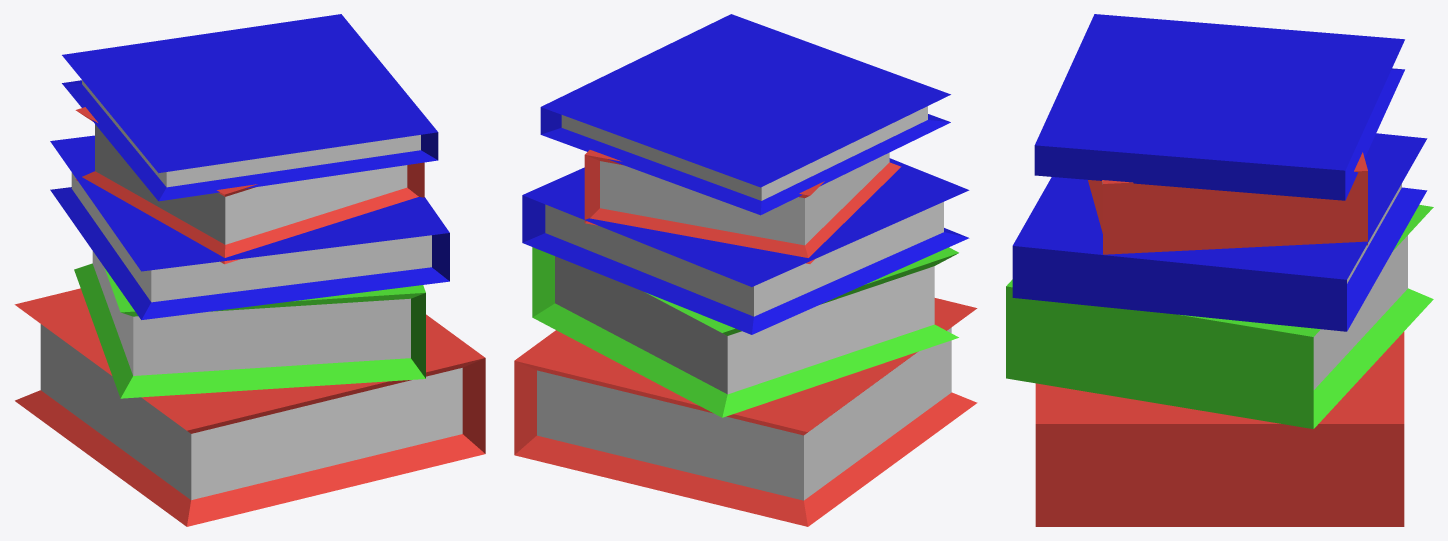
File: libros.glb
The picture shows the model from 3 angles, left to right: view 1: azimuth 30°, elevation 25°; view 2: azimuth 150°, elevation 25°; view 3: azimuth 270°, elevation 25°; orthographic projection. The views are drawn at different scales.
Visible parts, largest first — view 1: Cube, Cube.004, Cube.002, Cube.001, Cube.003; view 2: Cube, Cube.004, Cube.001, Cube.002, Cube.003; view 3: Cube.004, Cube, Cube.001, Cube.002, Cube.003.
Boxes of the visible parts, bbox=[...] form: Cube: bbox=[14, 288, 485, 526]; Cube.004: bbox=[62, 14, 438, 201]; Cube.002: bbox=[50, 135, 449, 319]; Cube.001: bbox=[74, 251, 425, 398]; Cube.003: bbox=[75, 107, 424, 264]; Cube: bbox=[514, 298, 977, 526]; Cube.004: bbox=[540, 14, 950, 215]; Cube.001: bbox=[532, 247, 958, 417]; Cube.002: bbox=[522, 158, 969, 334]; Cube.003: bbox=[584, 150, 901, 263]; Cube.004: bbox=[1034, 14, 1404, 200]; Cube: bbox=[1035, 331, 1404, 526]; Cube.001: bbox=[1006, 204, 1433, 428]; Cube.002: bbox=[1012, 133, 1427, 331]; Cube.003: bbox=[1088, 152, 1367, 254].
Size of the model in its own units: 2.32 by 2.14 by 2.32.
